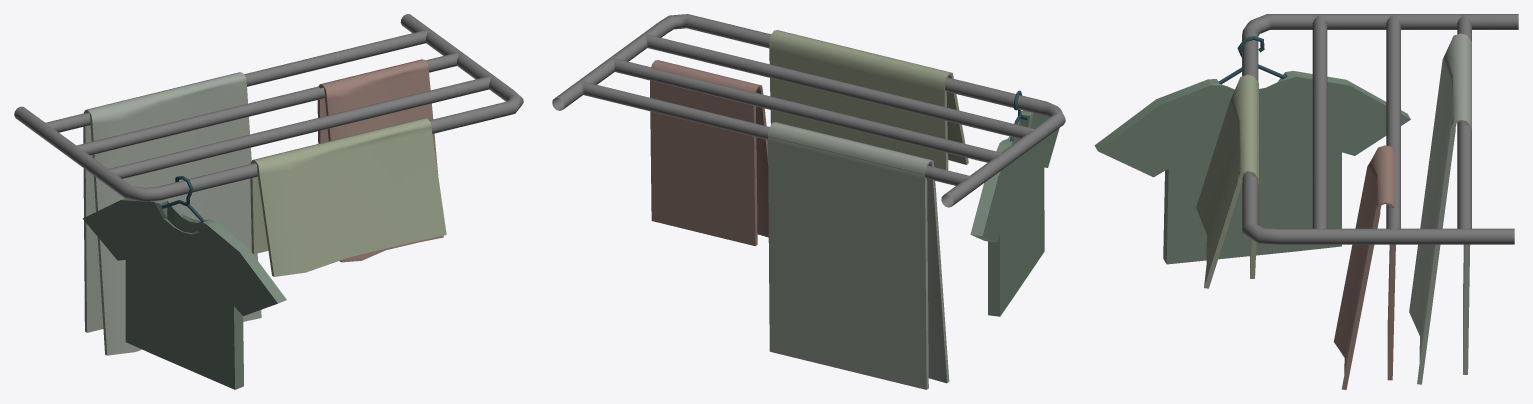
The model's file is hanger-1.fbx.
3 renders of one model, left to right at view 1: azimuth 30°, elevation 25°; view 2: azimuth 150°, elevation 25°; view 3: azimuth 270°, elevation 25°, orthographic. The views are drawn at different scales.
Visible parts, largest first — view 1: hanger1; view 2: hanger1; view 3: hanger1.
Boxes of the visible parts, x1,y1,x2,y2 form: hanger1: [14, 14, 523, 389]; hanger1: [552, 14, 1065, 389]; hanger1: [1094, 14, 1518, 389].
Size of the model in its own units: 1.3 by 0.7243 by 1.05.
